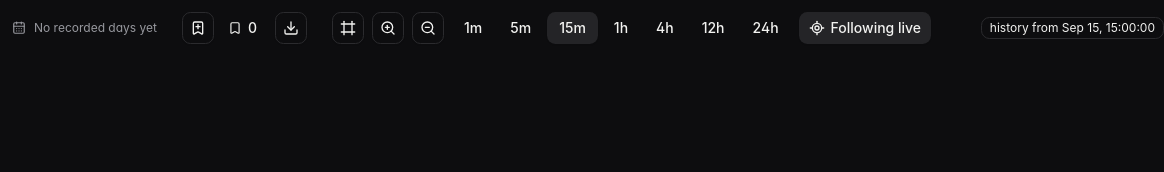
the reset button › explains itself on hover
The image size is (1164, 172).
Hover over the button named "Reset the view".
mouse_move(348, 28)  # box [332, 12, 364, 44]
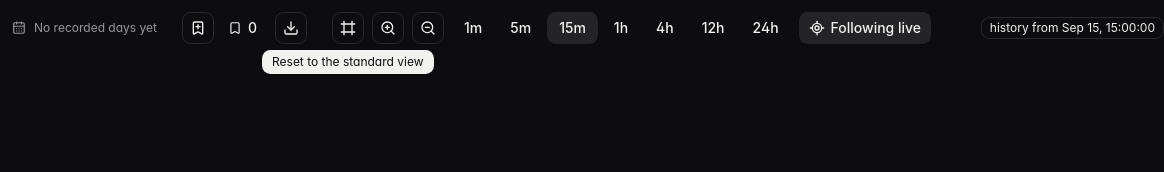
Check: the tooltip reads "Reset to the standard view", box [272, 54, 424, 69]
